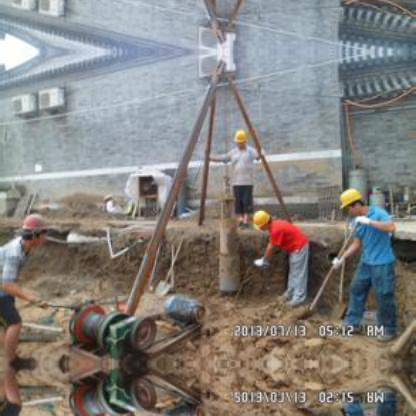helmet: (339, 184, 365, 218), (20, 212, 46, 246), (248, 207, 274, 232), (233, 126, 250, 150)
